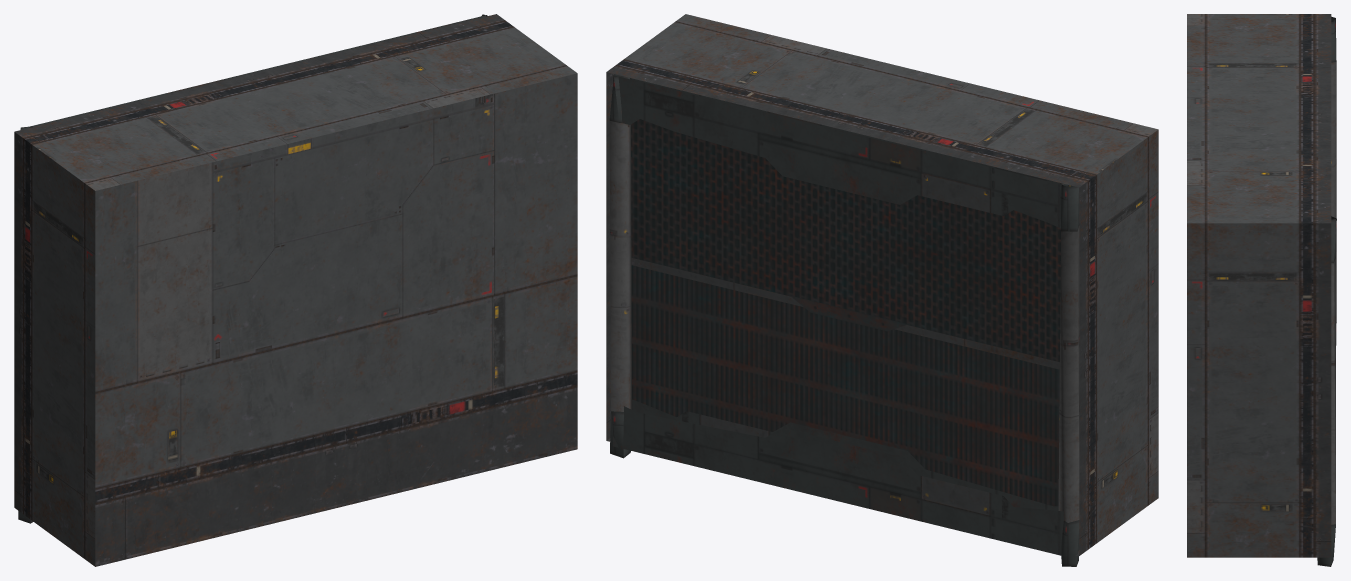
Rendered from ARC0910136.fbx.
3 renders of one model, left to right at view 1: azimuth 30°, elevation 25°; view 2: azimuth 150°, elevation 25°; view 3: azimuth 270°, elevation 25°, orthographic. The views are drawn at different scales.
Visible parts, largest first — view 1: smARC0910136; view 2: smARC0910136; view 3: smARC0910136.
Boxes of the visible parts, <box> form: smARC0910136: <box>14,14,577,566</box>; smARC0910136: <box>606,14,1158,566</box>; smARC0910136: <box>1187,14,1336,566</box>.
Size of the model in its own units: 400 by 308 by 121.
Materials: 1 (1 with a texture image).
